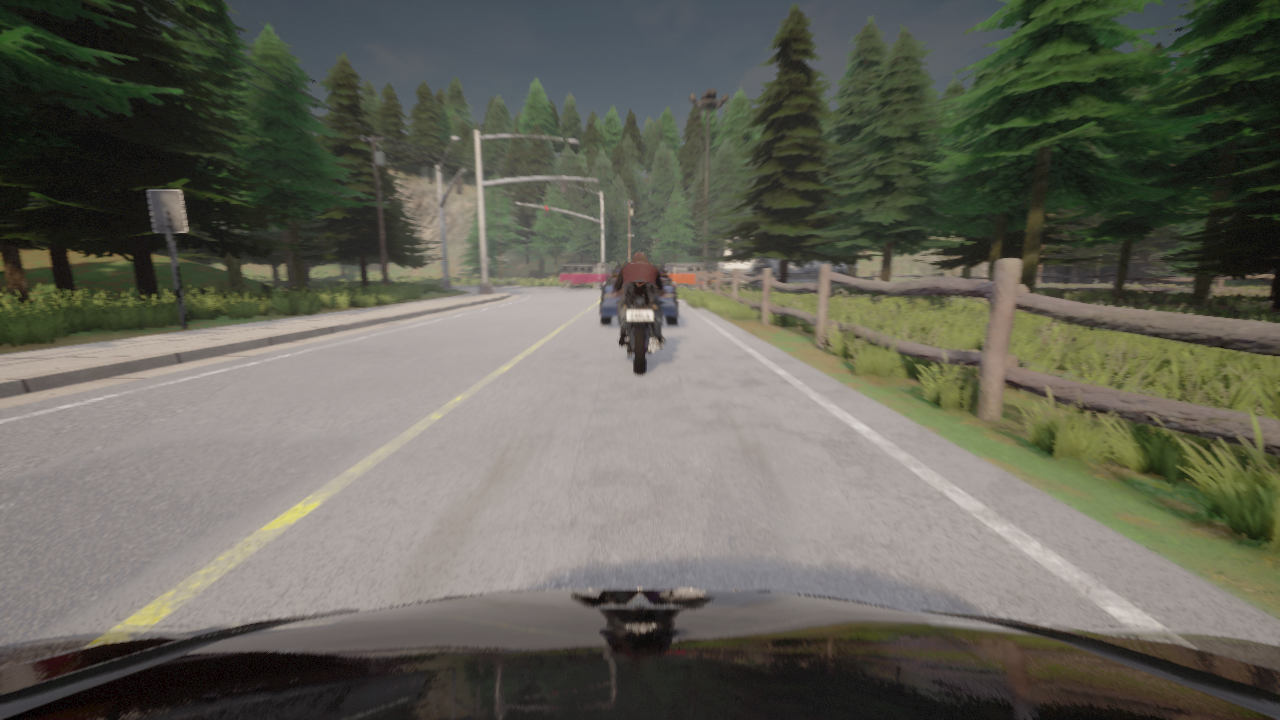cyclist: (0, 588, 1279, 719), (718, 237, 864, 284), (610, 273, 668, 373), (600, 266, 677, 324), (664, 263, 722, 288), (557, 263, 612, 288), (621, 262, 652, 265)
